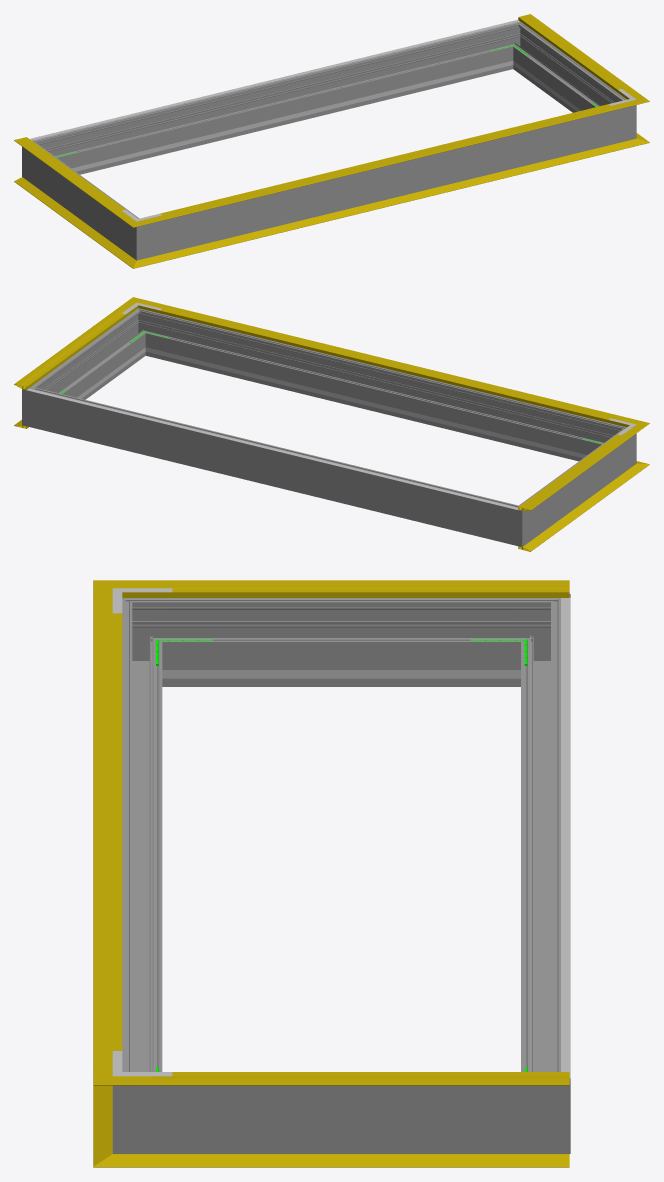
The picture shows the model from 3 angles, top to bottom: view 1: azimuth 30°, elevation 25°; view 2: azimuth 150°, elevation 25°; view 3: azimuth 270°, elevation 25°; orthographic projection. The views are drawn at different scales.
Parts seen in each view (by area): view 1: 3DGeom-276, 3DGeom-298, 3DGeom-297, 3DGeom-28, 3DGeom-141, 3DGeom-268, 3DGeom-244, 3DGeom-220, 3DGeom-270, 3DGeom-158, 3DGeom-145, 3DGeom-38 (+6 smaller); view 2: 3DGeom-298, 3DGeom-276, 3DGeom-141, 3DGeom-297, 3DGeom-268, 3DGeom-239, 3DGeom-278, 3DGeom-220, 3DGeom-158, 3DGeom-145, 3DGeom-38, 3DGeom-284 (+5 smaller); view 3: 3DGeom-268, 3DGeom-297, 3DGeom-298, 3DGeom-276, 3DGeom-141, 3DGeom-147, 3DGeom-30, 3DGeom-158, 3DGeom-220, 3DGeom-290, 3DGeom-284, 3DGeom-145 (+9 smaller).
Part boxes in pixels (bbox=[...]): 3DGeom-276: bbox=[50, 27, 508, 174]; 3DGeom-298: bbox=[162, 111, 610, 254]; 3DGeom-297: bbox=[515, 30, 617, 112]; 3DGeom-28: bbox=[154, 143, 623, 262]; 3DGeom-141: bbox=[154, 104, 623, 221]; 3DGeom-268: bbox=[37, 149, 129, 249]; 3DGeom-244: bbox=[81, 67, 488, 170]; 3DGeom-220: bbox=[30, 20, 519, 140]; 3DGeom-270: bbox=[121, 211, 162, 260]; 3DGeom-158: bbox=[160, 104, 610, 215]; 3DGeom-145: bbox=[518, 14, 634, 95]; 3DGeom-38: bbox=[14, 177, 125, 257]; 3DGeom-298: bbox=[150, 313, 608, 461]; 3DGeom-276: bbox=[48, 392, 500, 540]; 3DGeom-141: bbox=[151, 303, 623, 424]; 3DGeom-297: bbox=[41, 317, 143, 399]; 3DGeom-268: bbox=[529, 436, 621, 535]; 3DGeom-239: bbox=[170, 353, 577, 456]; 3DGeom-278: bbox=[496, 498, 537, 546]; 3DGeom-220: bbox=[26, 388, 518, 510]; 3DGeom-158: bbox=[160, 309, 610, 419]; 3DGeom-145: bbox=[14, 308, 130, 389]; 3DGeom-38: bbox=[518, 471, 634, 551]; 3DGeom-284: bbox=[22, 379, 52, 431]; 3DGeom-268: bbox=[172, 598, 510, 686]; 3DGeom-297: bbox=[172, 1085, 510, 1153]; 3DGeom-298: bbox=[122, 619, 162, 1071]; 3DGeom-276: bbox=[521, 619, 560, 1071]; 3DGeom-141: bbox=[93, 605, 112, 1059]; 3DGeom-147: bbox=[153, 580, 569, 597]; 3DGeom-30: bbox=[153, 1154, 569, 1167]; 3DGeom-158: bbox=[112, 613, 122, 1050]; 3DGeom-220: bbox=[561, 597, 570, 1078]; 3DGeom-290: bbox=[112, 1056, 172, 1153]; 3DGeom-284: bbox=[511, 1056, 570, 1153]; 3DGeom-145: bbox=[153, 1076, 569, 1085].
Size of the model in its own units: 3.05 by 0.2357 by 1.22.
